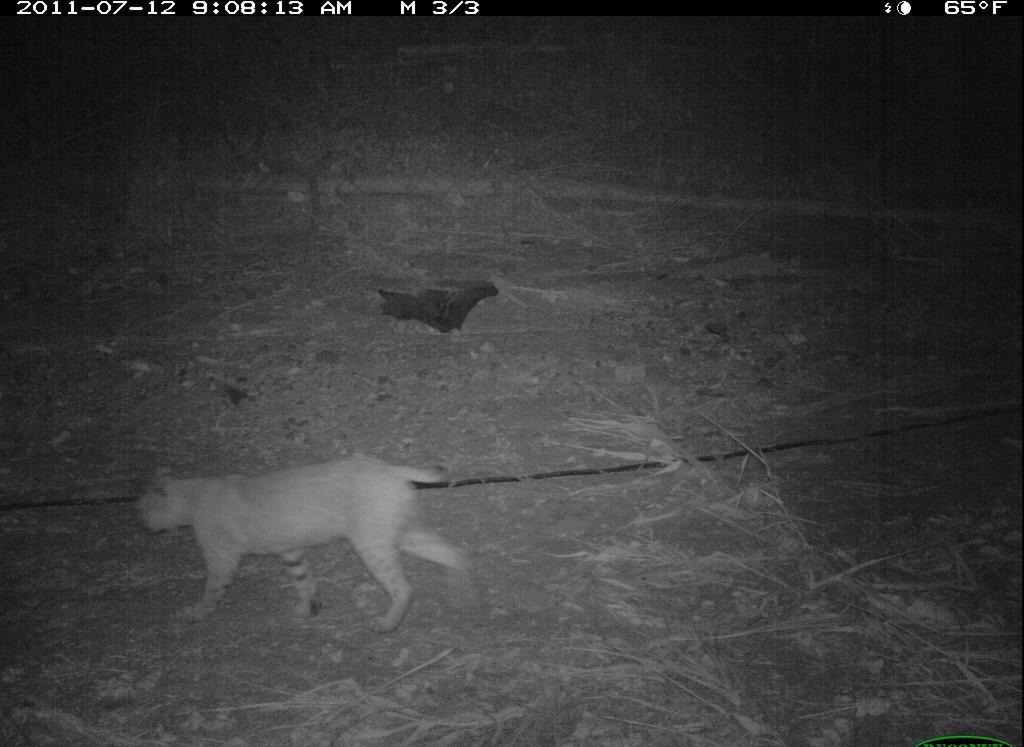bobcat: (129, 455, 492, 632)
